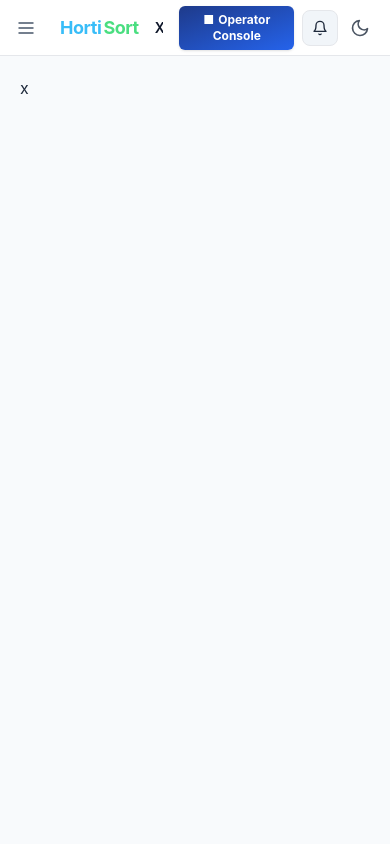
Scenario: PageLayout › opens the sidebar drawer when the hamburger is clicked
Click the button named "open navigation" at (26, 28), box [8, 10, 44, 46]
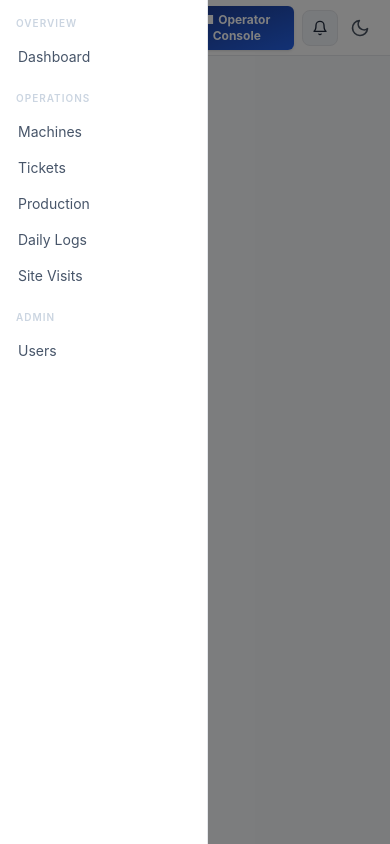
Result: the element with test id "sidebar-backdrop" is shown
